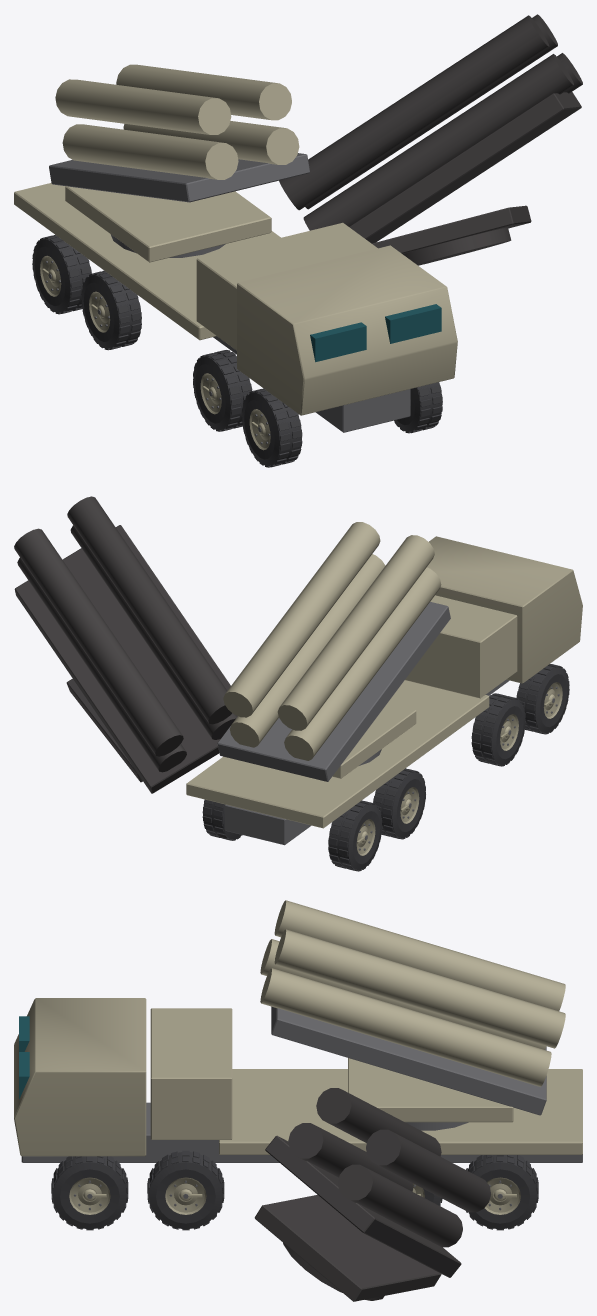
Rendered from coastalASM__rk_360mc_neptune.glb.
3 views of the same model, one above another, from view 1: azimuth 30°, elevation 25°; view 2: azimuth 150°, elevation 25°; view 3: azimuth 270°, elevation 25° (orthographic). The views are drawn at different scales.
Parts seen in each view (by area): view 1: Hull_Mesh, Wreck, Gun_Mesh, Turret_Mesh, Wheel_L1_Mesh, Wheel_L3_Mesh, Wheel_L2_Mesh, Wheel_L0_Mesh, Wheel_R3_Mesh; view 2: Wreck, Hull_Mesh, Gun_Mesh, Wheel_L2_Mesh, Wheel_L0_Mesh, Wheel_L1_Mesh, Wheel_L3_Mesh, Turret_Mesh, Wheel_R0_Mesh; view 3: Hull_Mesh, Gun_Mesh, Wreck, Turret_Mesh, Wheel_R2_Mesh, Wheel_R3_Mesh, Wheel_R0_Mesh.
Part boxes in pixels (x1,y1,x2,y2): Hull_Mesh: (14,183,457,432); Wreck: (46,14,582,465); Gun_Mesh: (49,64,309,202); Turret_Mesh: (65,186,271,262); Wheel_L1_Mesh: (81,270,141,350); Wheel_L3_Mesh: (242,388,302,467); Wheel_L2_Mesh: (193,350,252,431); Wheel_L0_Mesh: (32,235,91,314); Wheel_R3_Mesh: (394,382,442,433); Wreck: (14,496,555,870); Hull_Mesh: (186,536,582,845); Gun_Mesh: (217,522,450,781); Wheel_L2_Mesh: (471,693,525,766); Wheel_L0_Mesh: (328,800,382,871); Wheel_L1_Mesh: (373,768,425,839); Wheel_L3_Mesh: (516,664,569,734); Turret_Mesh: (332,703,416,778); Wheel_R0_Mesh: (202,799,242,840); Hull_Mesh: (14,998,582,1162); Gun_Mesh: (260,900,565,1115); Wreck: (60,1088,490,1301); Turret_Mesh: (348,1058,513,1130); Wheel_R2_Mesh: (147,1150,224,1230); Wheel_R3_Mesh: (51,1156,128,1230); Wheel_R0_Mesh: (466,1155,538,1230).
Size of what is drawn, in the model's own units: 7.89 by 4.59 by 8.6.
